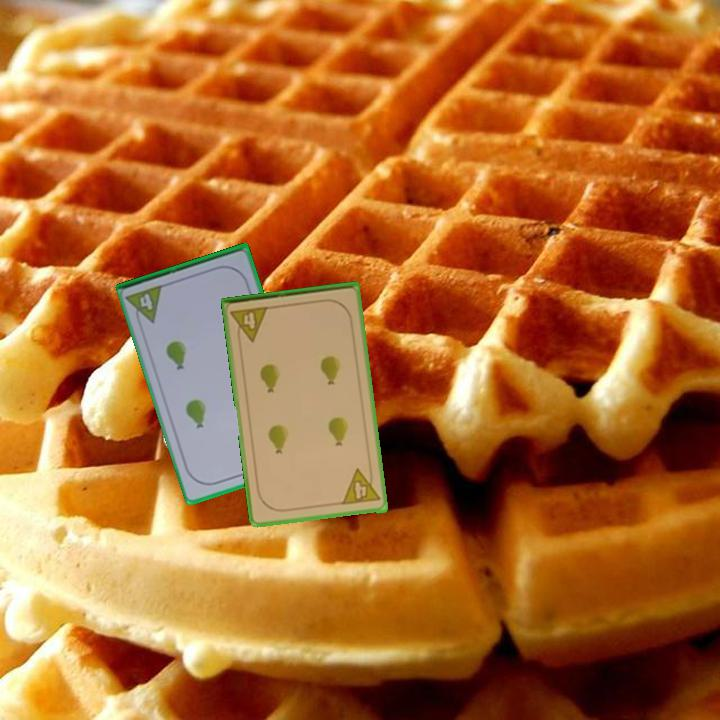4p: (123, 281, 167, 329), (338, 465, 383, 508), (227, 303, 272, 346)
